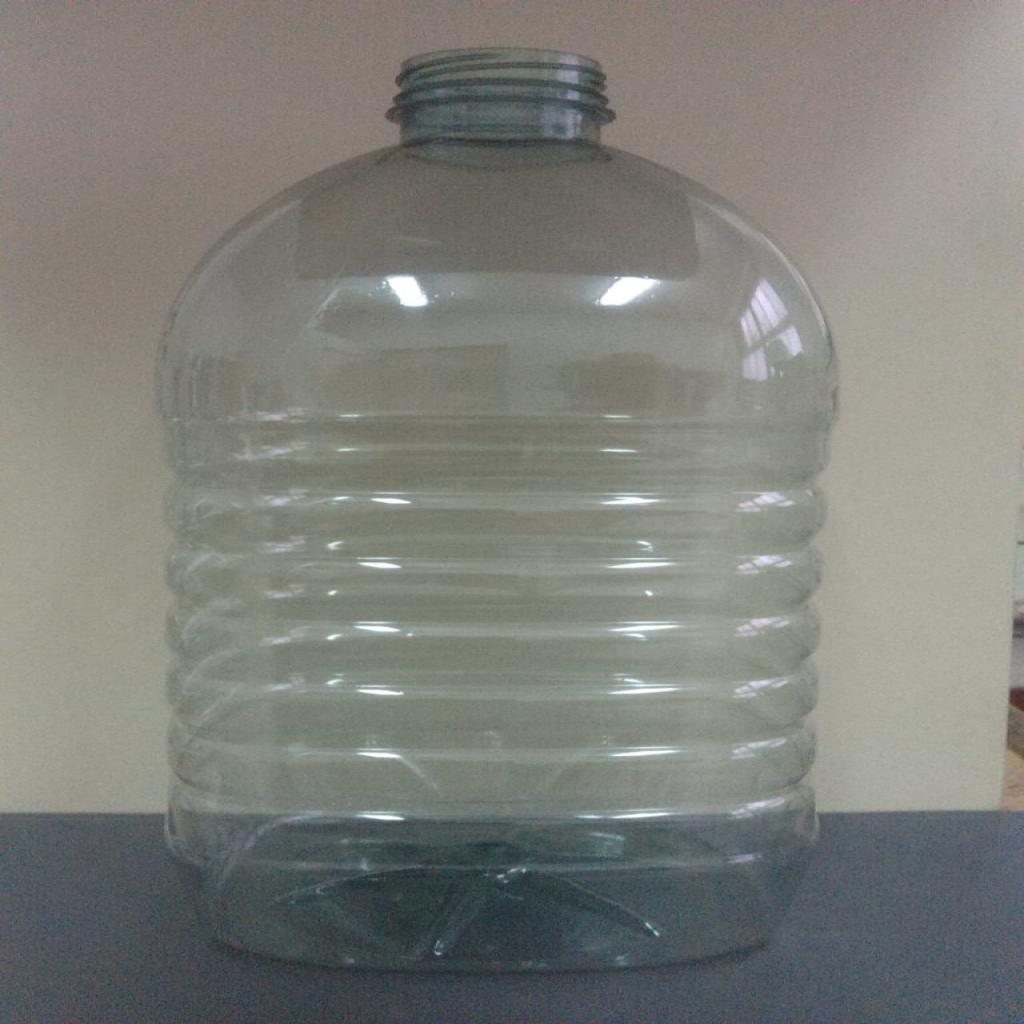organico: (141, 51, 838, 986)
